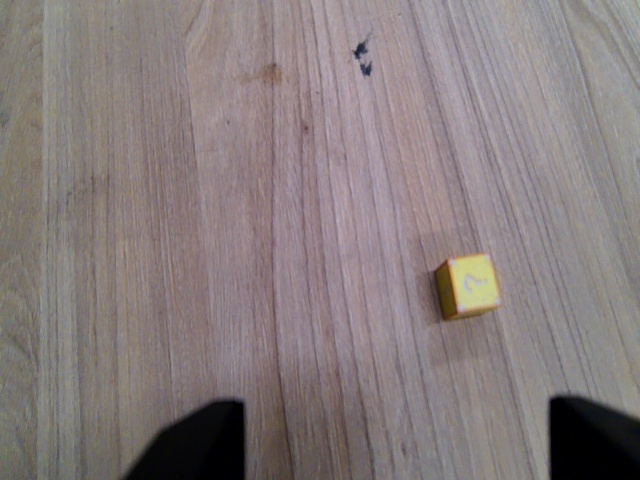lucky: (431, 250, 508, 324)
